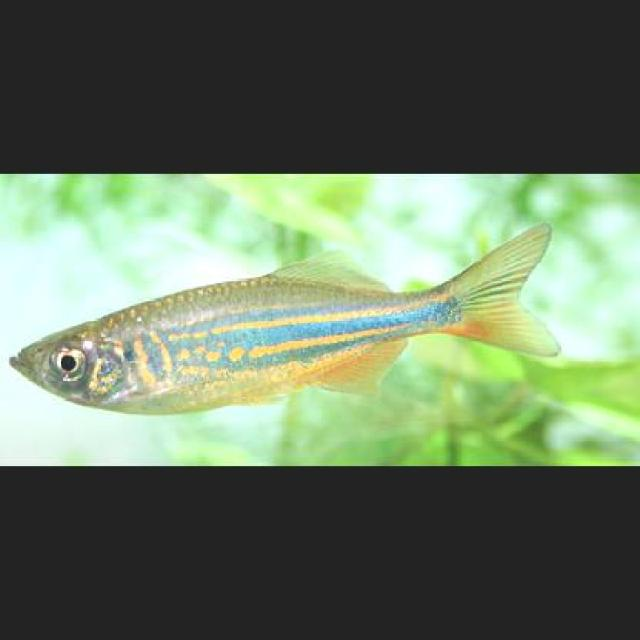ZebraFish: (20, 220, 568, 420)
